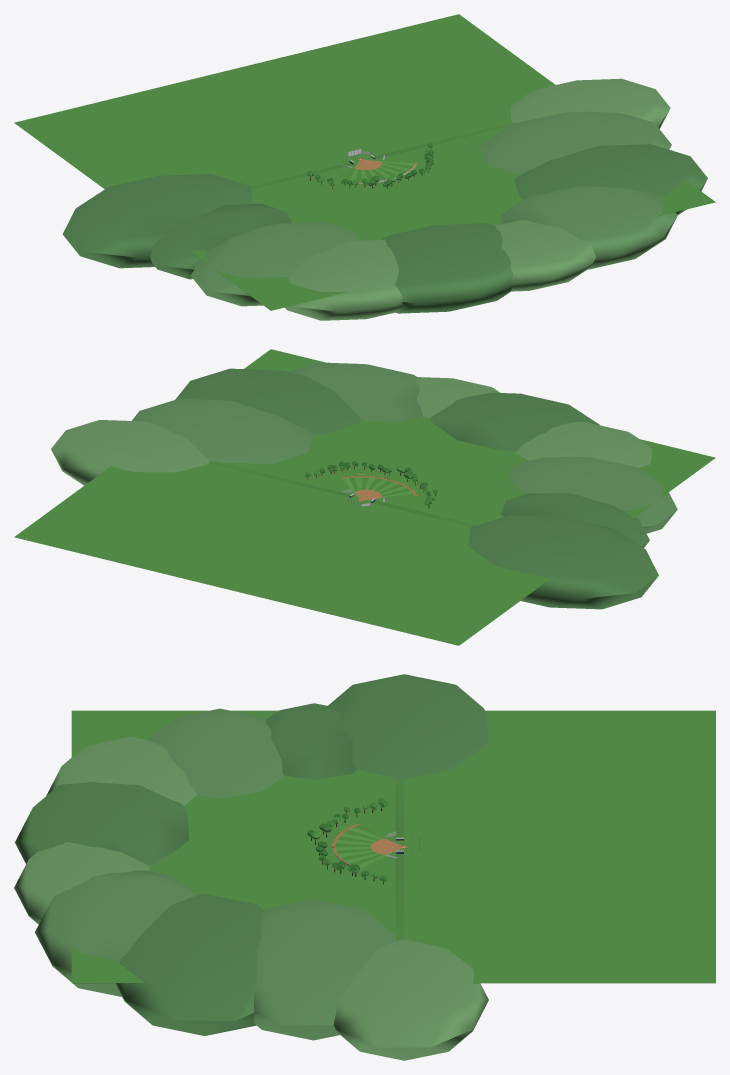
File: ground-softball-CSc9Rw42.glb
3 views of the same model, one above another, from view 1: azimuth 30°, elevation 25°; view 2: azimuth 150°, elevation 25°; view 3: azimuth 270°, elevation 25° (orthographic). The views are drawn at different scales.
Visible parts, largest first — view 1: arena; view 2: arena; view 3: arena.
Part boxes in pixels (box(x1,y1,x2,y2)): arena: box(14, 14, 715, 320); arena: box(14, 349, 715, 645); arena: box(14, 674, 715, 1060).
Size of the model in its own units: 789 by 83.11 by 654.
